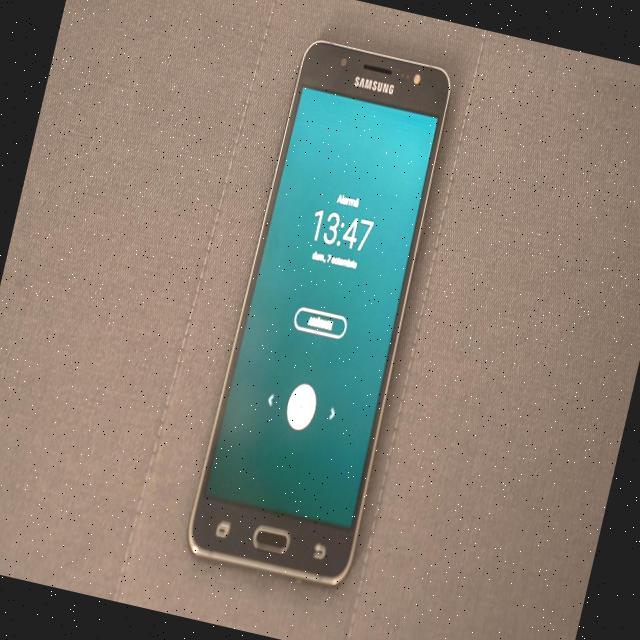Phone: (172, 25, 469, 603)
